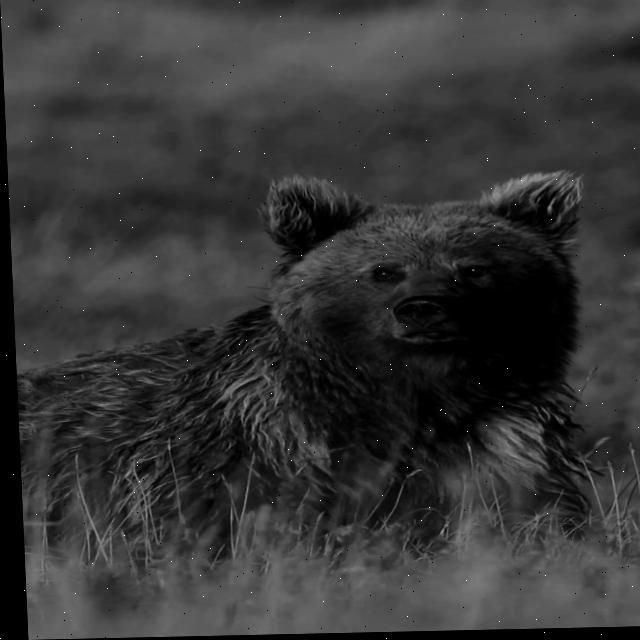Bear: (8, 166, 606, 580)
